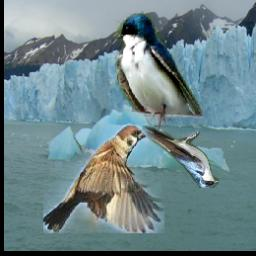Sparrow: (44, 125, 165, 233)
Swallow: (114, 12, 203, 133), (142, 127, 220, 189)
